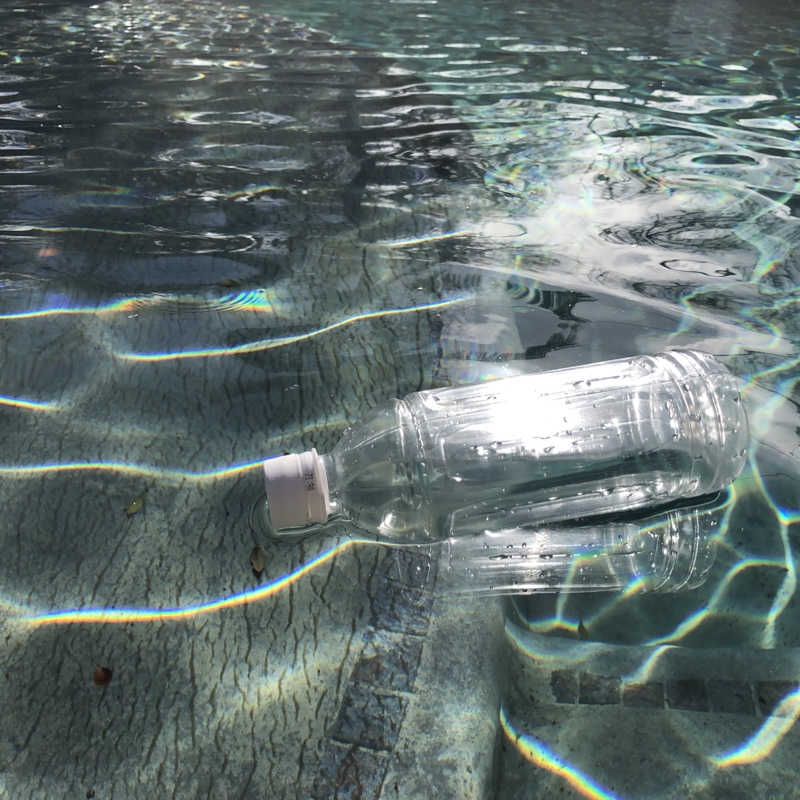Plastic Bottle: (252, 350, 756, 542)
